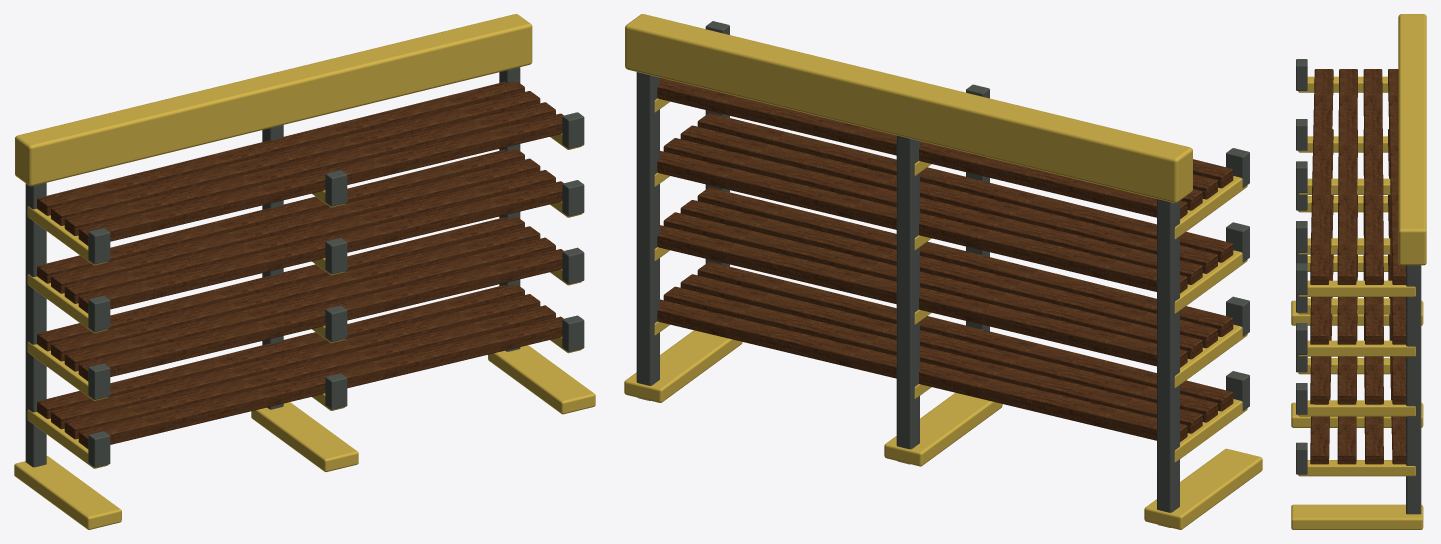
Rendered from miller_lumber_rack.glb.
3 views of the same model, side by side, from view 1: azimuth 30°, elevation 25°; view 2: azimuth 150°, elevation 25°; view 3: azimuth 270°, elevation 25° (orthographic). The views are drawn at different scales.
Parts seen in each view (by area): view 1: miller_lumber_rack_miller_worn_oak_pbr, miller_lumber_rack_miller_dark_oak_pbr, miller_lumber_rack_miller_safety_yellow_enamel_pbr, miller_lumber_rack_miller_blackened_steel_pbr; view 2: miller_lumber_rack_miller_dark_oak_pbr, miller_lumber_rack_miller_safety_yellow_enamel_pbr, miller_lumber_rack_miller_worn_oak_pbr, miller_lumber_rack_miller_blackened_steel_pbr; view 3: miller_lumber_rack_miller_safety_yellow_enamel_pbr, miller_lumber_rack_miller_worn_oak_pbr, miller_lumber_rack_miller_dark_oak_pbr, miller_lumber_rack_miller_blackened_steel_pbr.
Part boxes in pixels (<box>): miller_lumber_rack_miller_worn_oak_pbr: <box>51,91,563,448</box>; miller_lumber_rack_miller_dark_oak_pbr: <box>37,81,555,439</box>; miller_lumber_rack_miller_safety_yellow_enamel_pbr: <box>14,14,595,529</box>; miller_lumber_rack_miller_blackened_steel_pbr: <box>25,67,584,467</box>; miller_lumber_rack_miller_dark_oak_pbr: <box>657,77,1217,441</box>; miller_lumber_rack_miller_safety_yellow_enamel_pbr: <box>624,14,1262,529</box>; miller_lumber_rack_miller_worn_oak_pbr: <box>663,113,1233,433</box>; miller_lumber_rack_miller_blackened_steel_pbr: <box>636,21,1249,527</box>; miller_lumber_rack_miller_safety_yellow_enamel_pbr: <box>1291,14,1426,529</box>; miller_lumber_rack_miller_worn_oak_pbr: <box>1310,69,1383,464</box>; miller_lumber_rack_miller_dark_oak_pbr: <box>1337,69,1405,464</box>; miller_lumber_rack_miller_blackened_steel_pbr: <box>1296,59,1421,514</box>.
Bounding box in the file's own units: 4.4 × 2.82 × 1.15.
4 materials, 2 textured.
